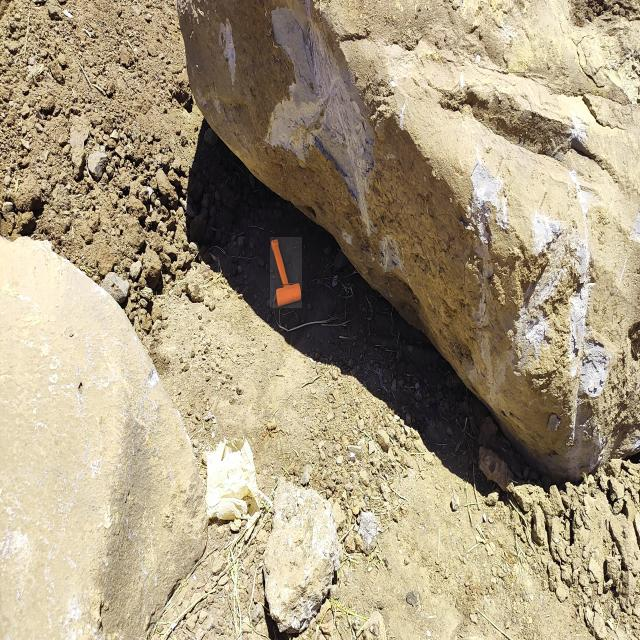Orange_hammer: (270, 237, 302, 308)
